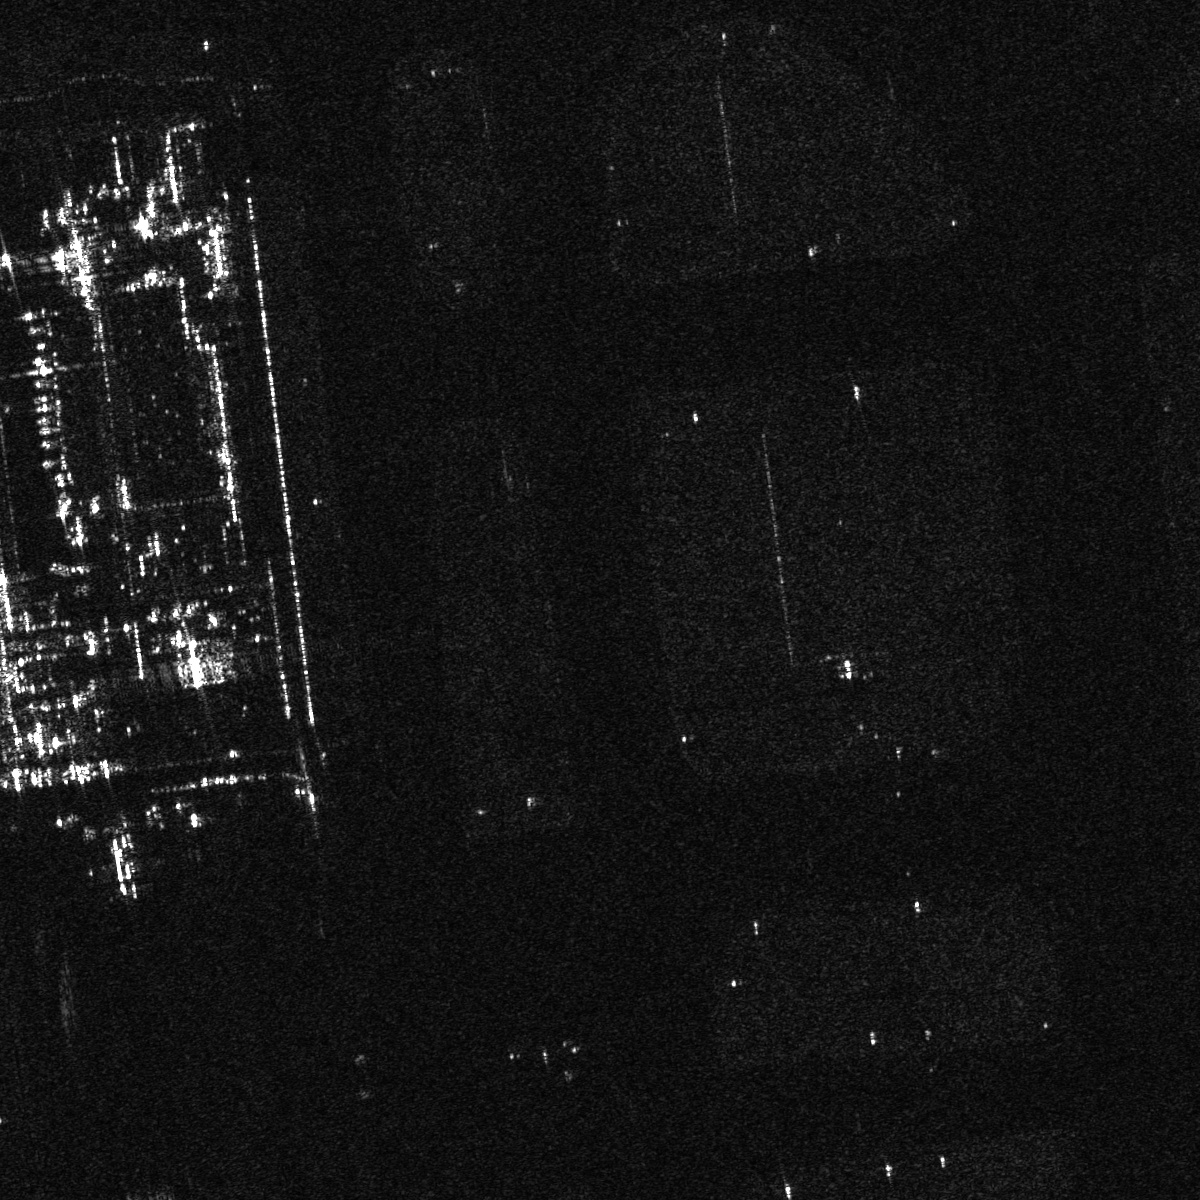Boeing737: (86, 824, 166, 908)
